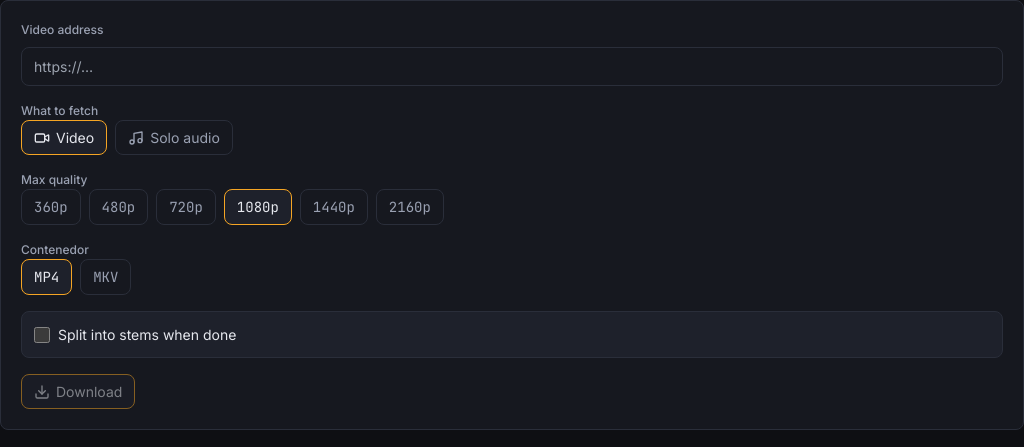
DownloadPage › esconde la calidad cuando se pide solo audio
Click the button "Solo audio": (174, 138) x1=115 y1=120 x2=233 y2=155
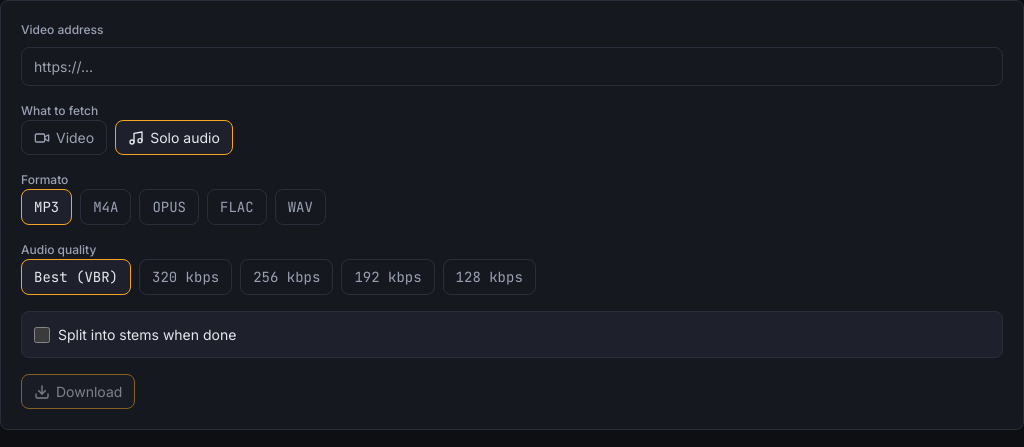
expect the text "Max quality" is gone: met
